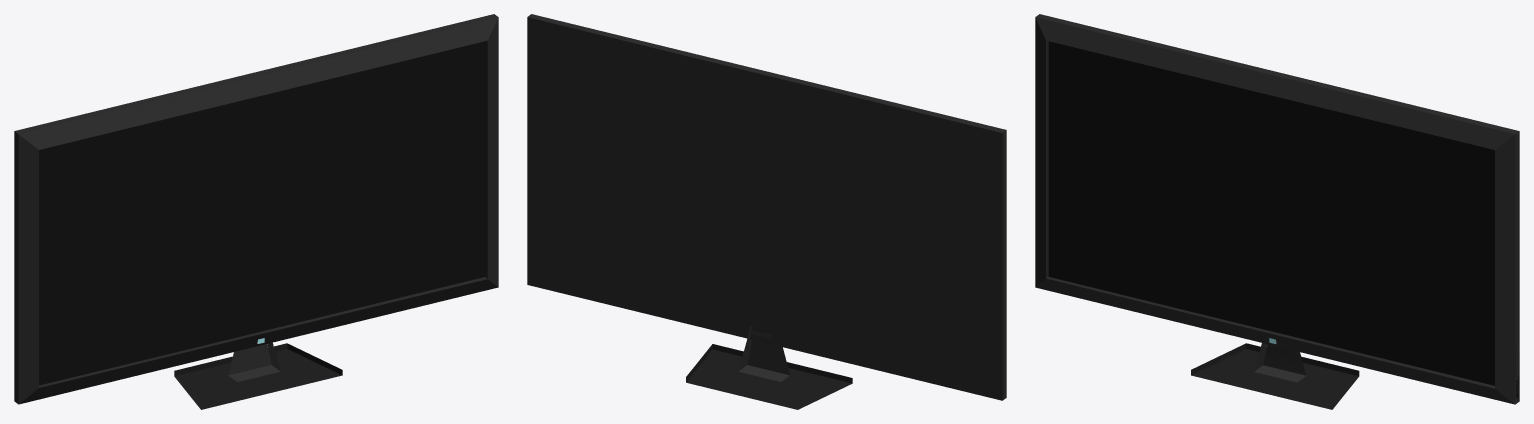
3 views of the same model, side by side, from view 1: azimuth 30°, elevation 25°; view 2: azimuth 150°, elevation 25°; view 3: azimuth 330°, elevation 25° (orthographic).
Visible parts, largest first — view 1: Cube; view 2: Cube; view 3: Cube.
Boxes of the visible parts, <box> form: Cube: <box>14,14,498,409</box>; Cube: <box>527,14,1006,409</box>; Cube: <box>1035,14,1519,409</box>.
Size of the model in its own units: 577 by 353 by 85.7.
1 material, 1 textured.
